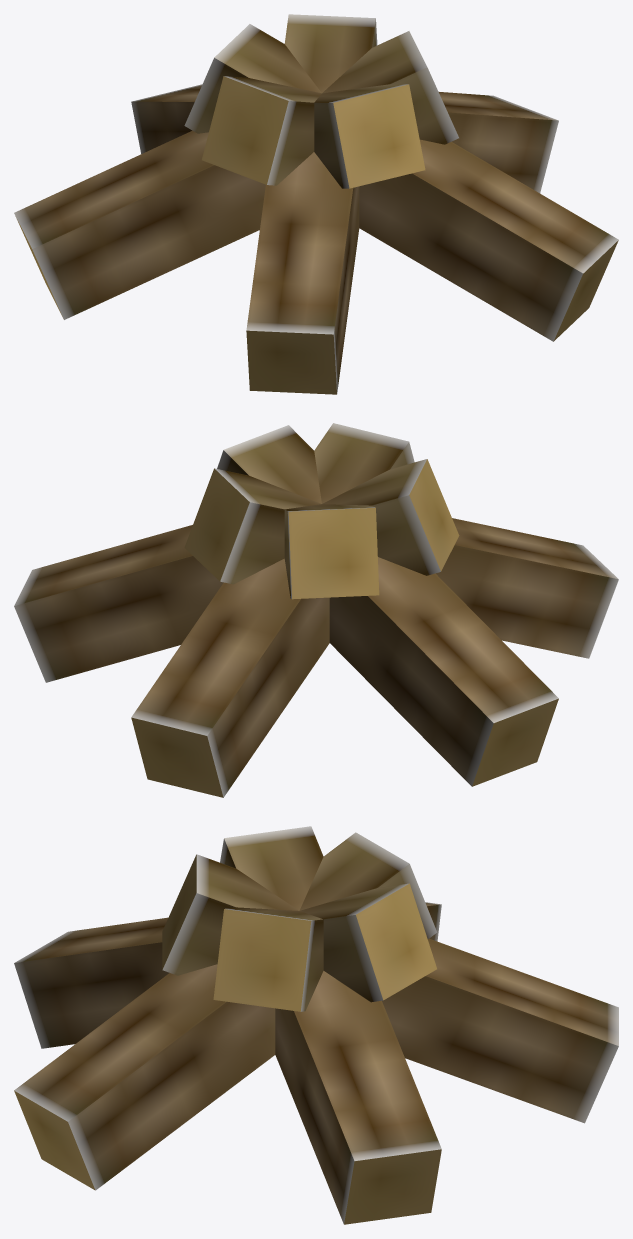
Rendered from Bonfire_02.fbx.
The picture shows the model from 3 angles, top to bottom: view 1: azimuth 30°, elevation 25°; view 2: azimuth 150°, elevation 25°; view 3: azimuth 270°, elevation 25°; orthographic projection. The views are drawn at different scales.
Visible parts, largest first — view 1: Bonfire_02; view 2: Bonfire_02; view 3: Bonfire_02.
Boxes of the visible parts, x1,y1,x2,y2 form: Bonfire_02: (14, 14, 618, 394); Bonfire_02: (14, 423, 618, 797); Bonfire_02: (14, 826, 618, 1224).
Bounding box in the file's own units: 140 × 55.89 × 133.
